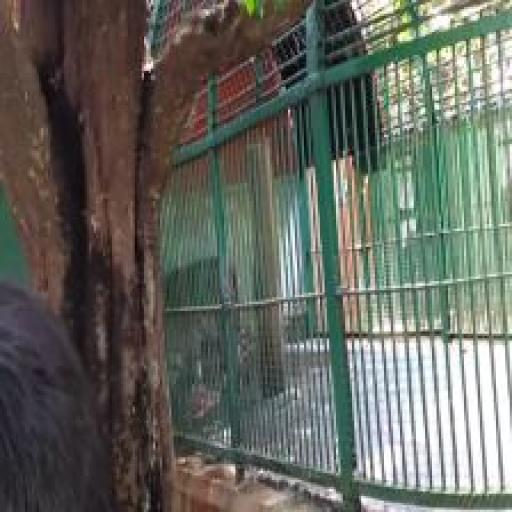Tiger: (162, 247, 254, 403)
